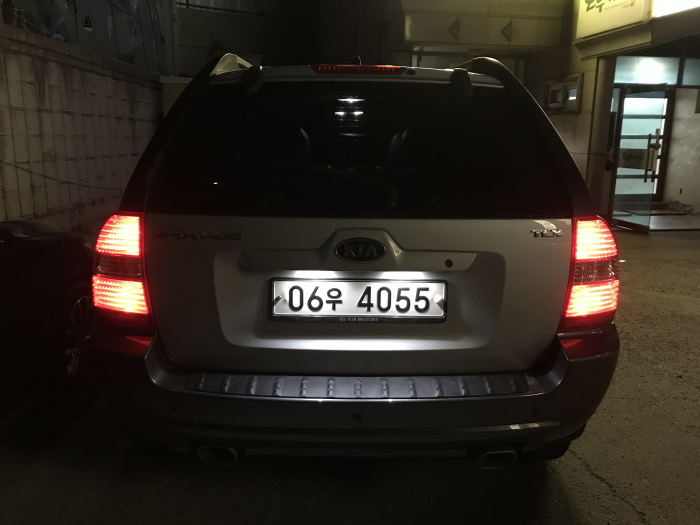plate: (273, 280, 445, 320)
